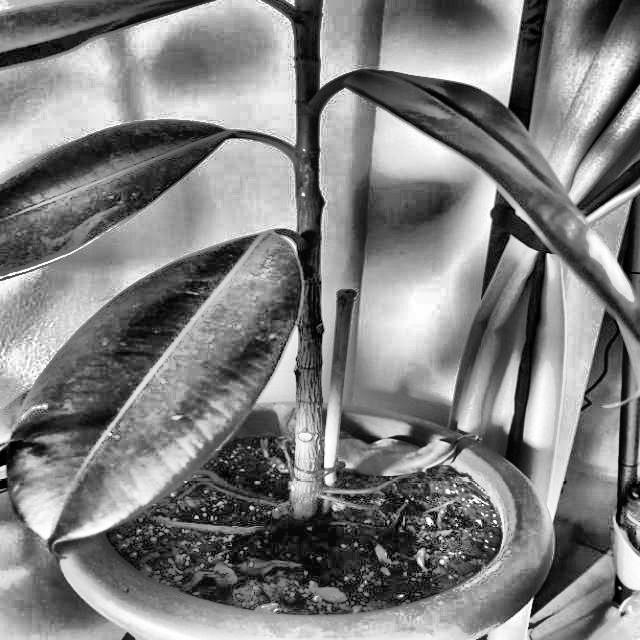plants: (0, 4, 609, 566)
